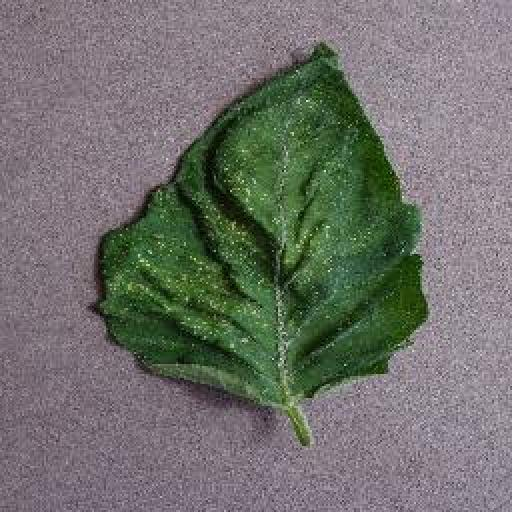Spider Mites: (92, 44, 427, 411)
